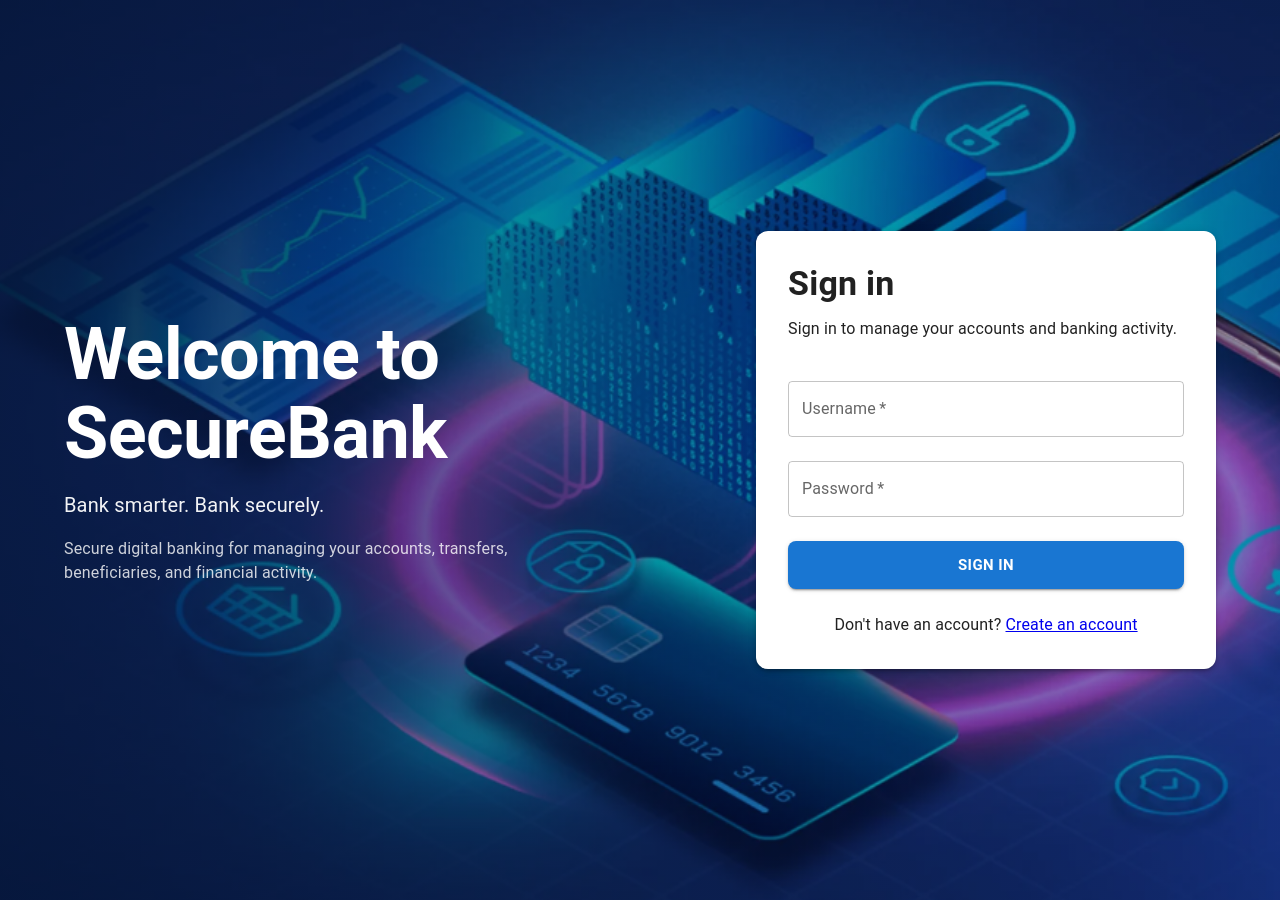
Test: Login › displays an error when login fails
Type "wrong" into the field labelled "Username *" at {"x": 986, "y": 409}, box [788, 381, 1184, 437]
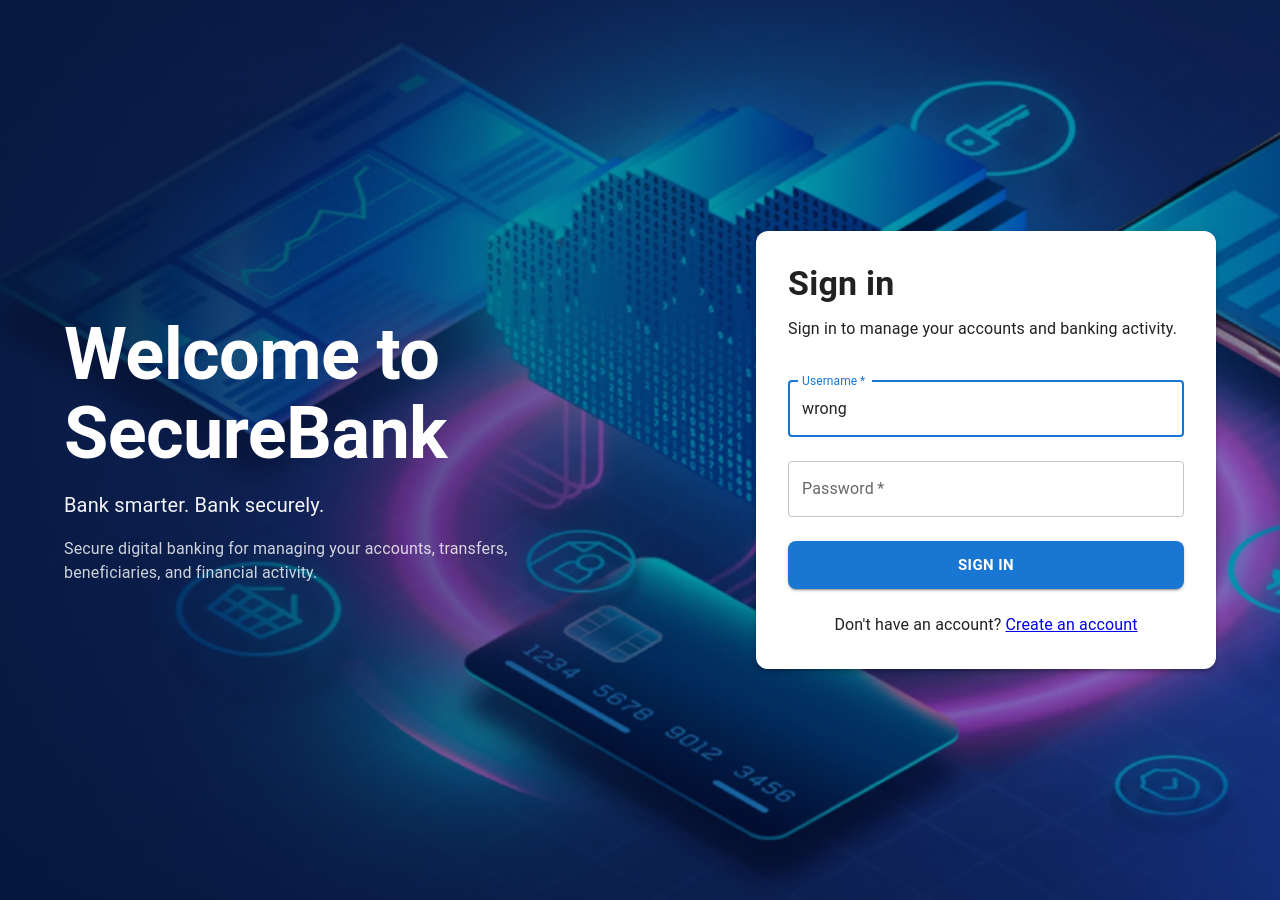
Type "wrong-password" into the password field labelled "Password *" at {"x": 986, "y": 489}, box [788, 461, 1184, 517]
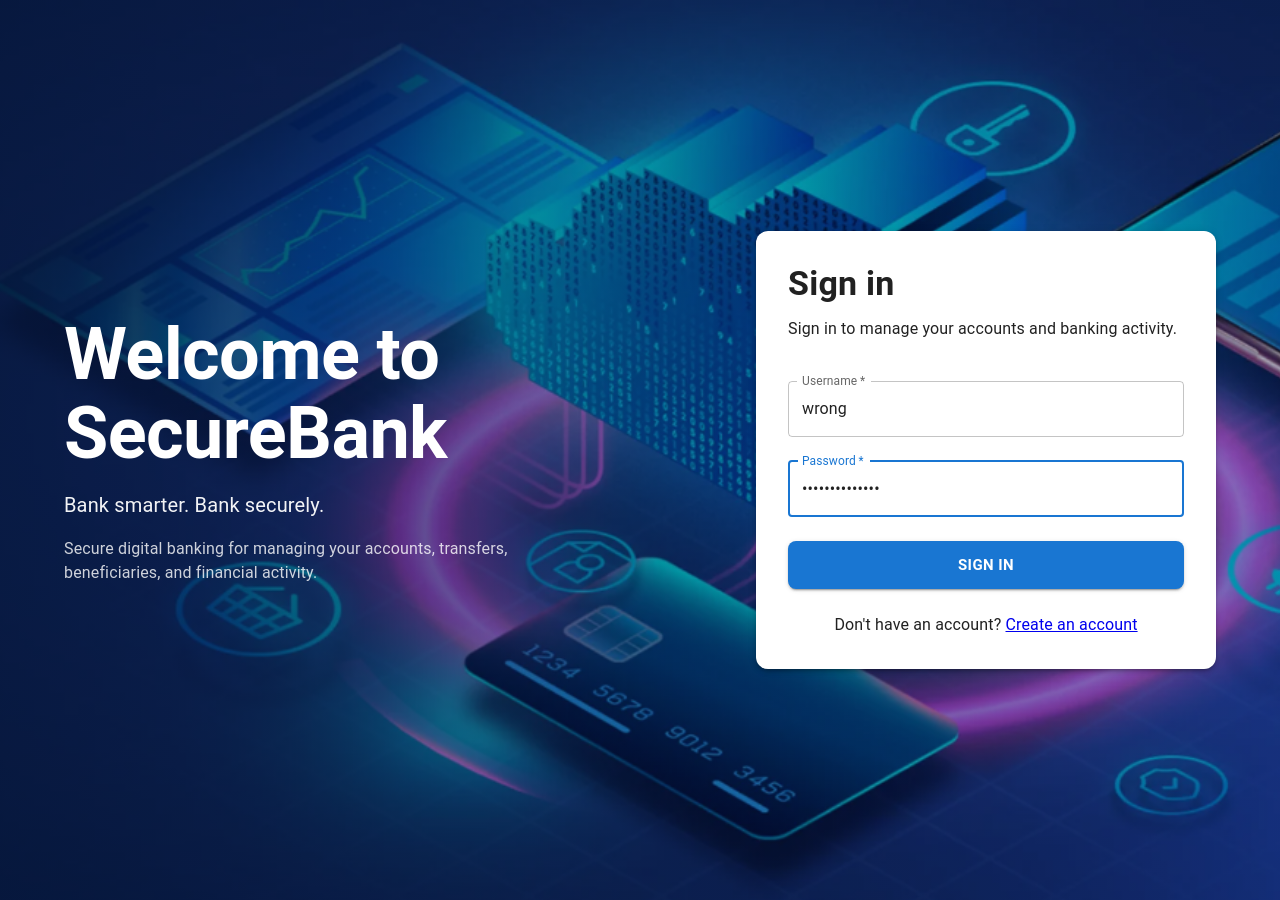
Click the button "Sign in" at {"x": 986, "y": 565}, box [788, 541, 1184, 589]
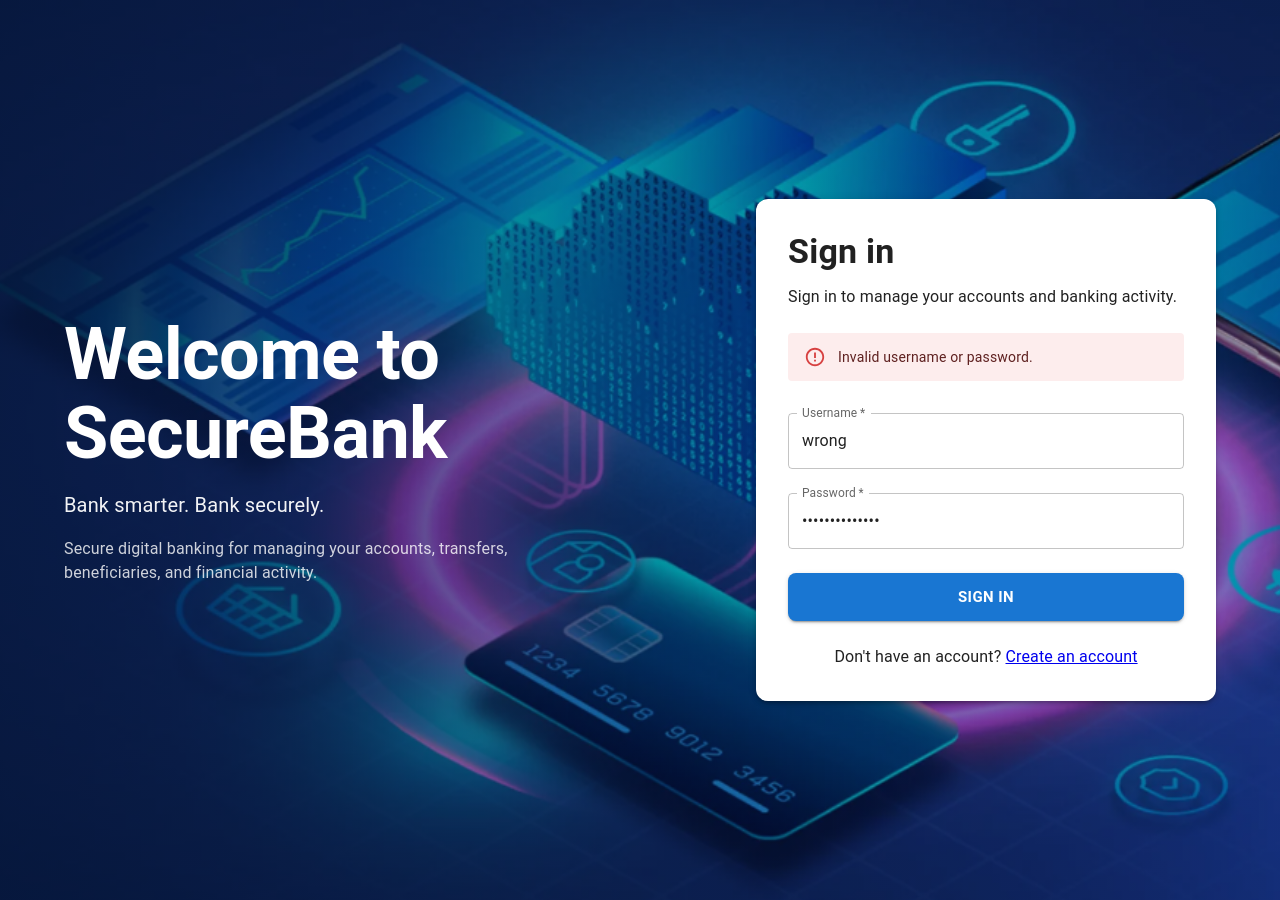
Expected: the text "Invalid username or password." is shown, [838, 349, 1033, 365]
